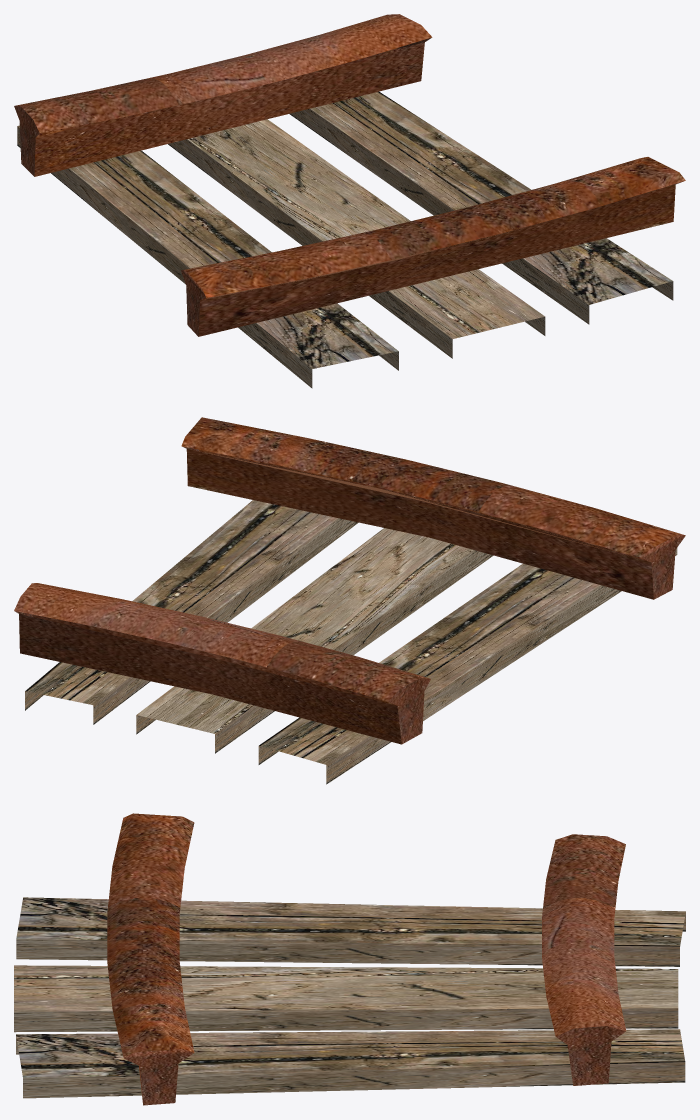
Rendered from RailCurve.fbx.
3 views of the same model, one above another, from view 1: azimuth 30°, elevation 25°; view 2: azimuth 150°, elevation 25°; view 3: azimuth 270°, elevation 25° (orthographic). The views are drawn at different scales.
Visible parts, largest first — view 1: pCube16; view 2: pCube16; view 3: pCube16.
Boxes of the visible parts, x1,y1,x2,y2 form: pCube16: [14, 14, 685, 388]; pCube16: [14, 417, 685, 784]; pCube16: [14, 813, 685, 1105].
Size of the model in its own units: 1.12 by 0.1742 by 1.32.
